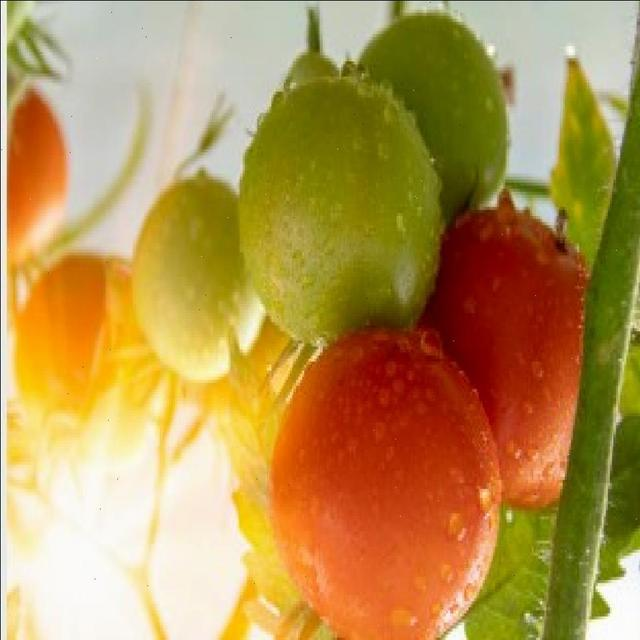Healthy Fruit: (99, 197, 343, 326)
